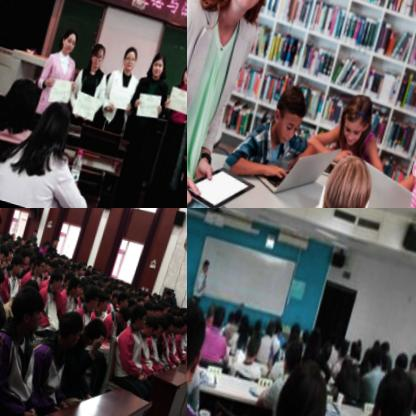head: (270, 343, 339, 416), (316, 142, 382, 208), (355, 351, 416, 416), (266, 77, 316, 150), (187, 291, 216, 389), (7, 279, 51, 338), (34, 95, 77, 151), (338, 83, 376, 146), (3, 72, 44, 126), (54, 303, 87, 349), (79, 306, 109, 350), (80, 277, 105, 311), (282, 328, 306, 362), (0, 281, 12, 347), (243, 321, 265, 357), (59, 22, 82, 56), (364, 336, 386, 369), (128, 297, 151, 327), (392, 338, 413, 370), (120, 40, 141, 71), (148, 47, 169, 78), (348, 323, 369, 353), (307, 317, 328, 344), (88, 39, 109, 65), (319, 328, 339, 355), (142, 305, 161, 333), (212, 296, 228, 327), (204, 292, 221, 320), (9, 251, 28, 276), (113, 297, 132, 322), (0, 255, 11, 298), (153, 305, 170, 332), (47, 265, 66, 289), (263, 311, 279, 337), (98, 284, 113, 308), (251, 307, 266, 330), (232, 297, 246, 321), (33, 251, 48, 273), (67, 271, 83, 291), (166, 308, 180, 330), (240, 304, 253, 327), (406, 338, 416, 366), (338, 328, 352, 348), (178, 53, 187, 83), (0, 237, 11, 260), (118, 285, 132, 303), (4, 240, 16, 260), (273, 308, 285, 328), (174, 309, 186, 328), (228, 299, 239, 319), (76, 275, 88, 293), (201, 252, 213, 270), (180, 308, 187, 330), (51, 231, 62, 245), (30, 222, 40, 235), (43, 236, 50, 246)
